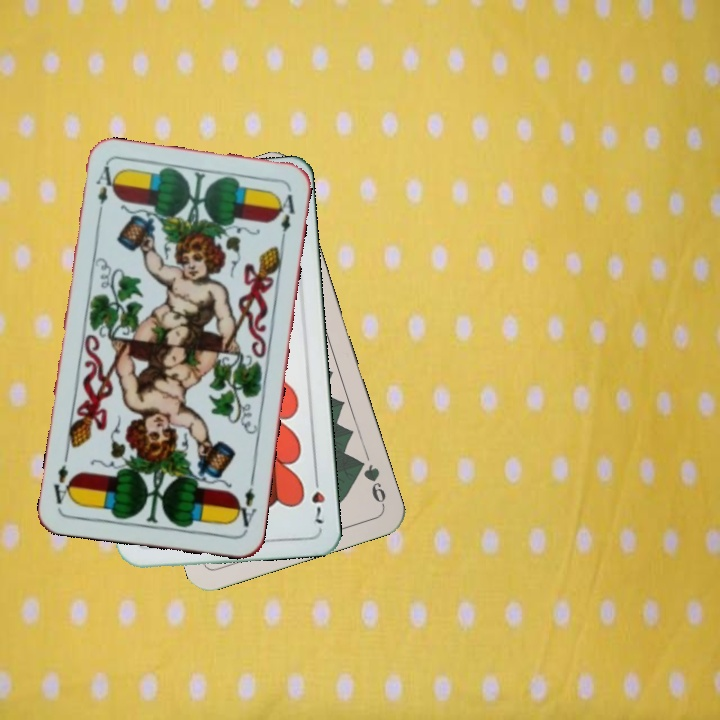EA: (230, 474, 260, 533), (91, 162, 117, 221)
G9: (352, 454, 389, 509)
H7: (308, 470, 328, 526)
